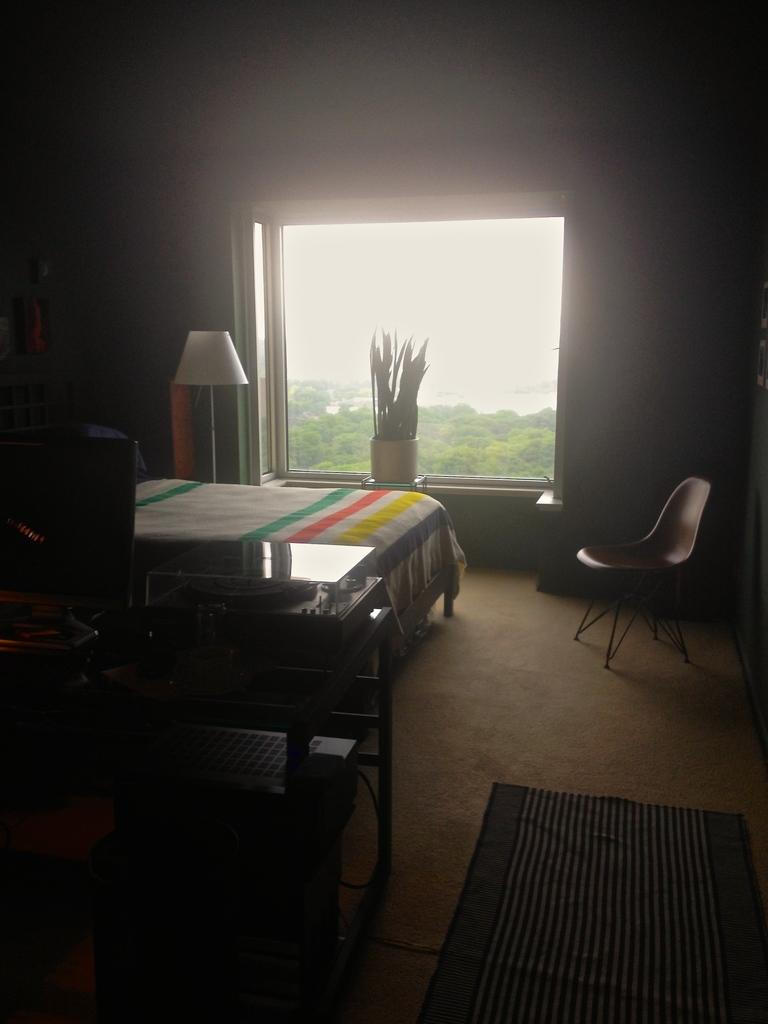Chair: (573, 467, 727, 683)
